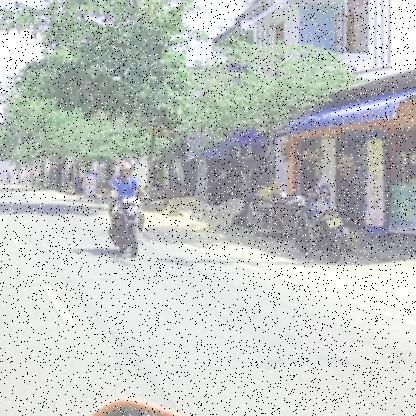motorcycle: (106, 196, 152, 260)
